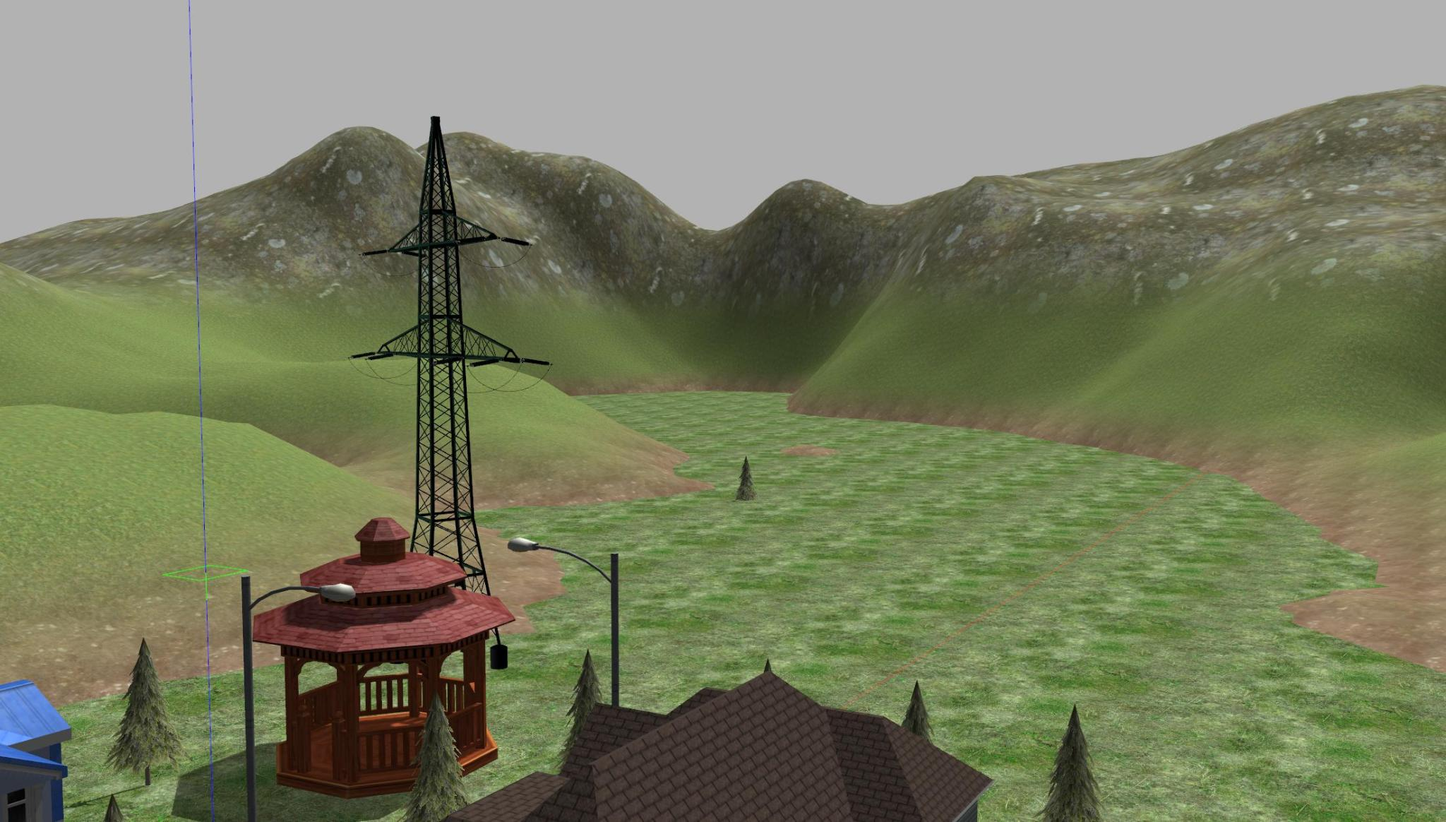tower: (357, 117, 512, 511)
